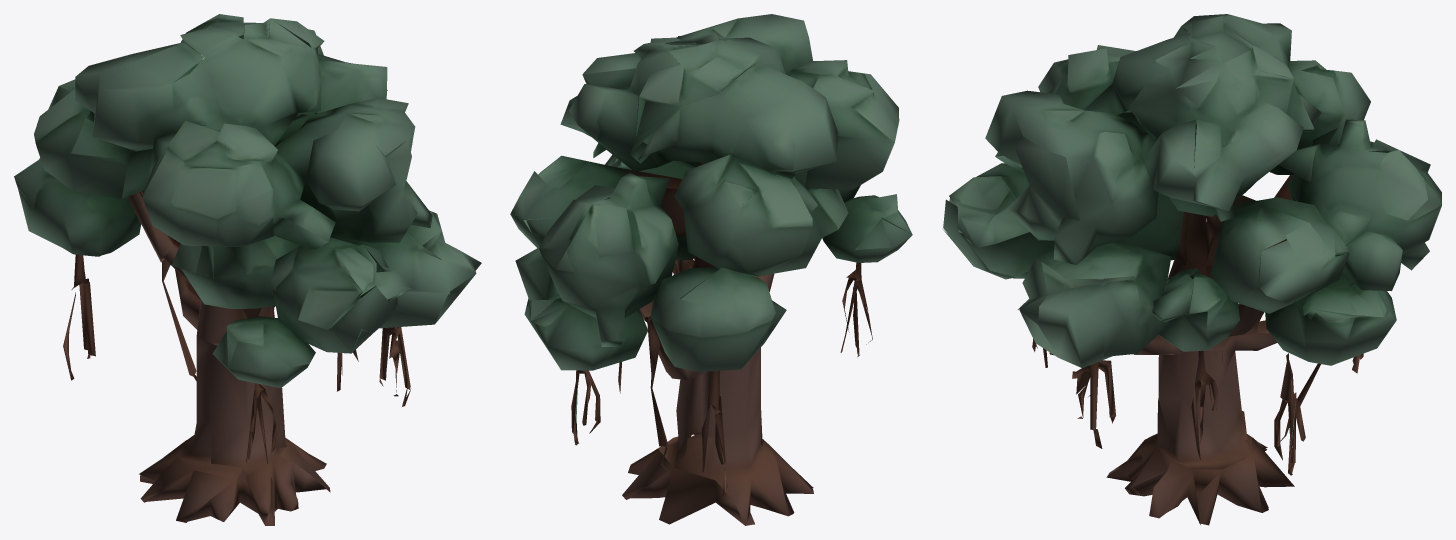
File: loc_qz_nat_banyan.glb
3 views of the same model, side by side, from view 1: azimuth 30°, elevation 25°; view 2: azimuth 150°, elevation 25°; view 3: azimuth 270°, elevation 25° (orthographic). The views are drawn at different scales.
Parts seen in each view (by area): view 1: loc_qz_nat_banyan; view 2: loc_qz_nat_banyan; view 3: loc_qz_nat_banyan.
Part boxes in pixels (box(x1,y1,x2,y2)): loc_qz_nat_banyan: box(14, 14, 481, 525); loc_qz_nat_banyan: box(510, 14, 912, 525); loc_qz_nat_banyan: box(942, 14, 1441, 525).
Size of the model in its own units: 1.5 by 1.98 by 2.
1 material, 1 textured.
